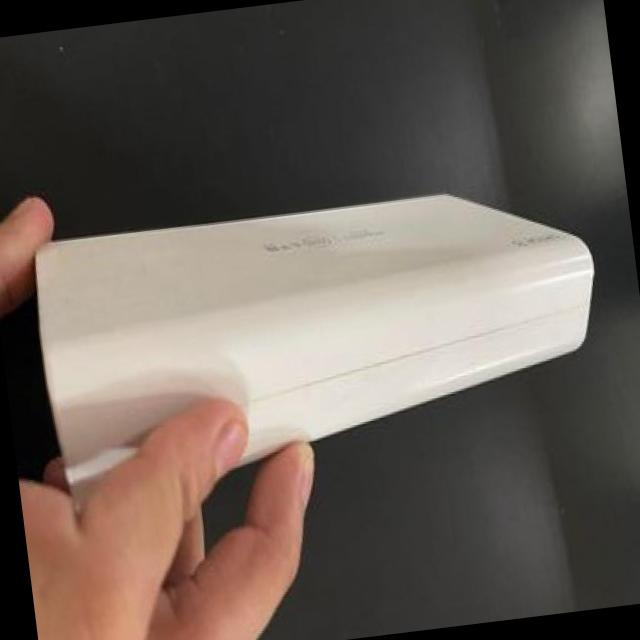power_bank: (0, 94, 631, 580)
